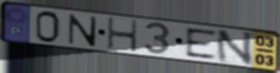0: (35, 10, 63, 44)
3: (143, 21, 172, 57)
E: (184, 27, 219, 60)
H: (107, 16, 140, 54)
N: (215, 29, 257, 67), (67, 13, 100, 48)
